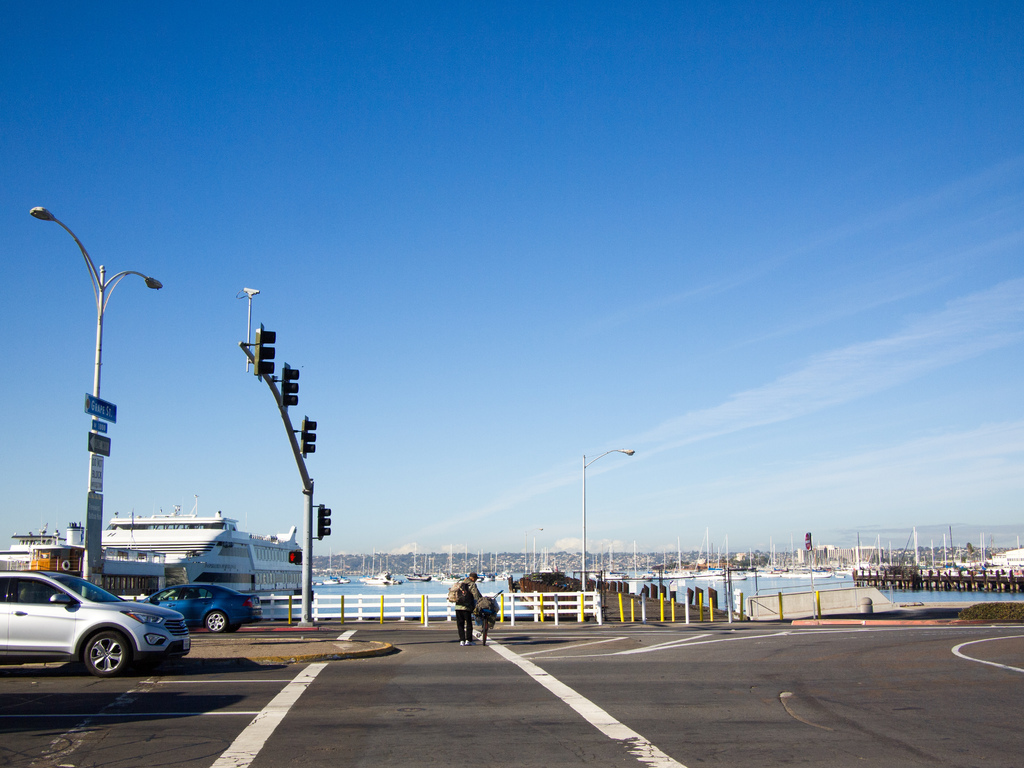Car: (1, 570, 188, 685), (154, 575, 260, 631)
